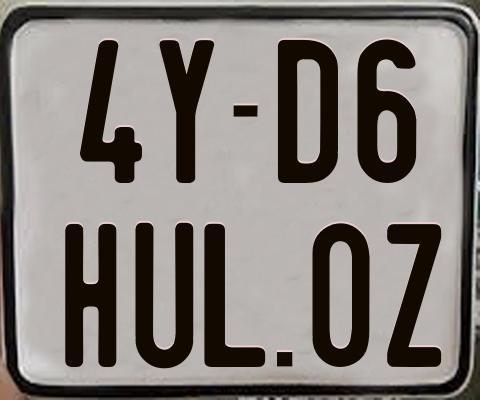0: (309, 222, 372, 371)
4: (79, 37, 142, 181)
6: (356, 37, 417, 185)
D: (275, 40, 335, 188)
H: (64, 224, 119, 372)
L: (203, 223, 270, 369)
U: (135, 221, 197, 369)
Y: (159, 39, 216, 182)
Z: (387, 221, 441, 370)
